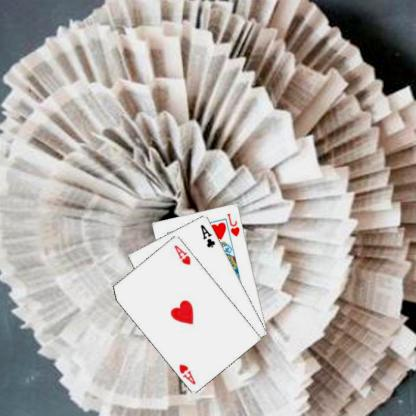AC: (200, 221, 218, 249)
AH: (178, 361, 199, 386), (173, 242, 194, 266)
JH: (226, 210, 243, 238)
